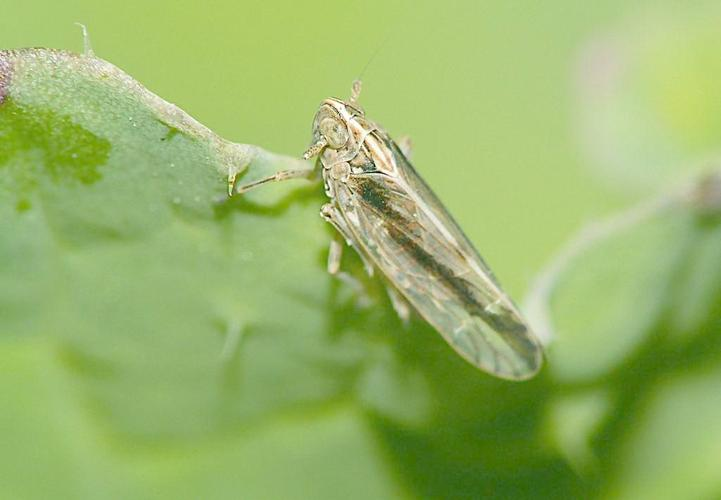Delphacidae: (238, 54, 548, 384)
